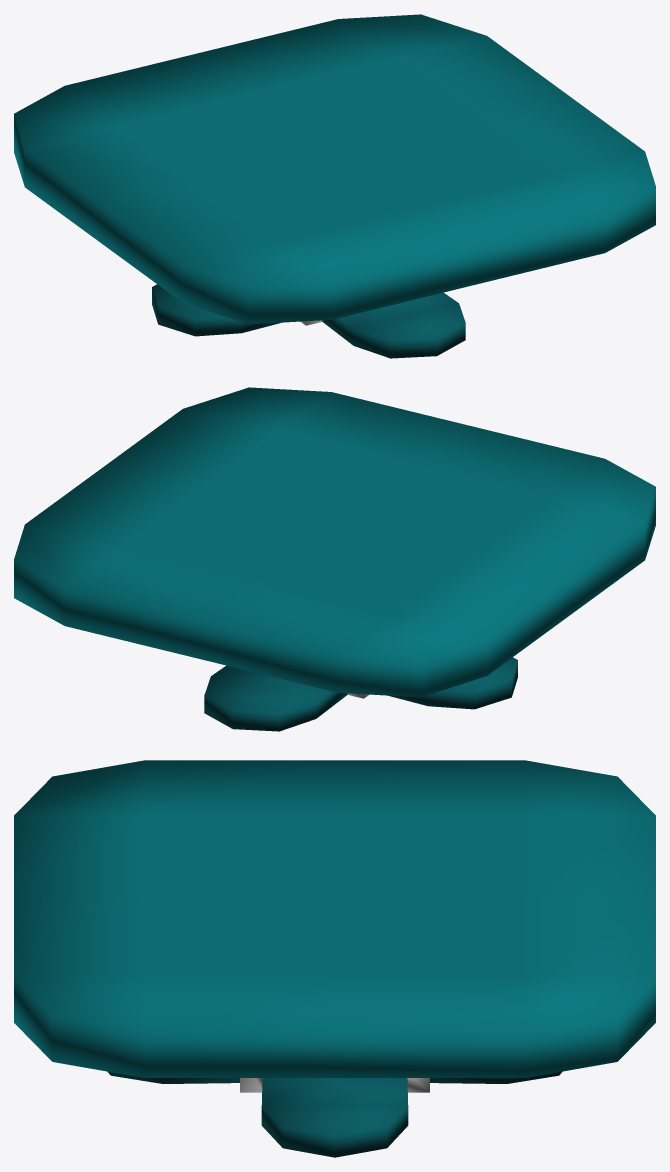
The model's file is MesaBio1.fbx.
3 views of the same model, one above another, from view 1: azimuth 30°, elevation 25°; view 2: azimuth 150°, elevation 25°; view 3: azimuth 270°, elevation 25° (orthographic). The views are drawn at different scales.
Parts seen in each view (by area): view 1: MesaBio1; view 2: MesaBio1; view 3: MesaBio1.
Boxes of the visible parts, x1,y1,x2,y2 form: MesaBio1: [14, 14, 655, 358]; MesaBio1: [14, 387, 655, 731]; MesaBio1: [14, 760, 655, 1157].
Size of the model in its own units: 163 by 44.31 by 163.
Materials: 1 (1 with a texture image).
